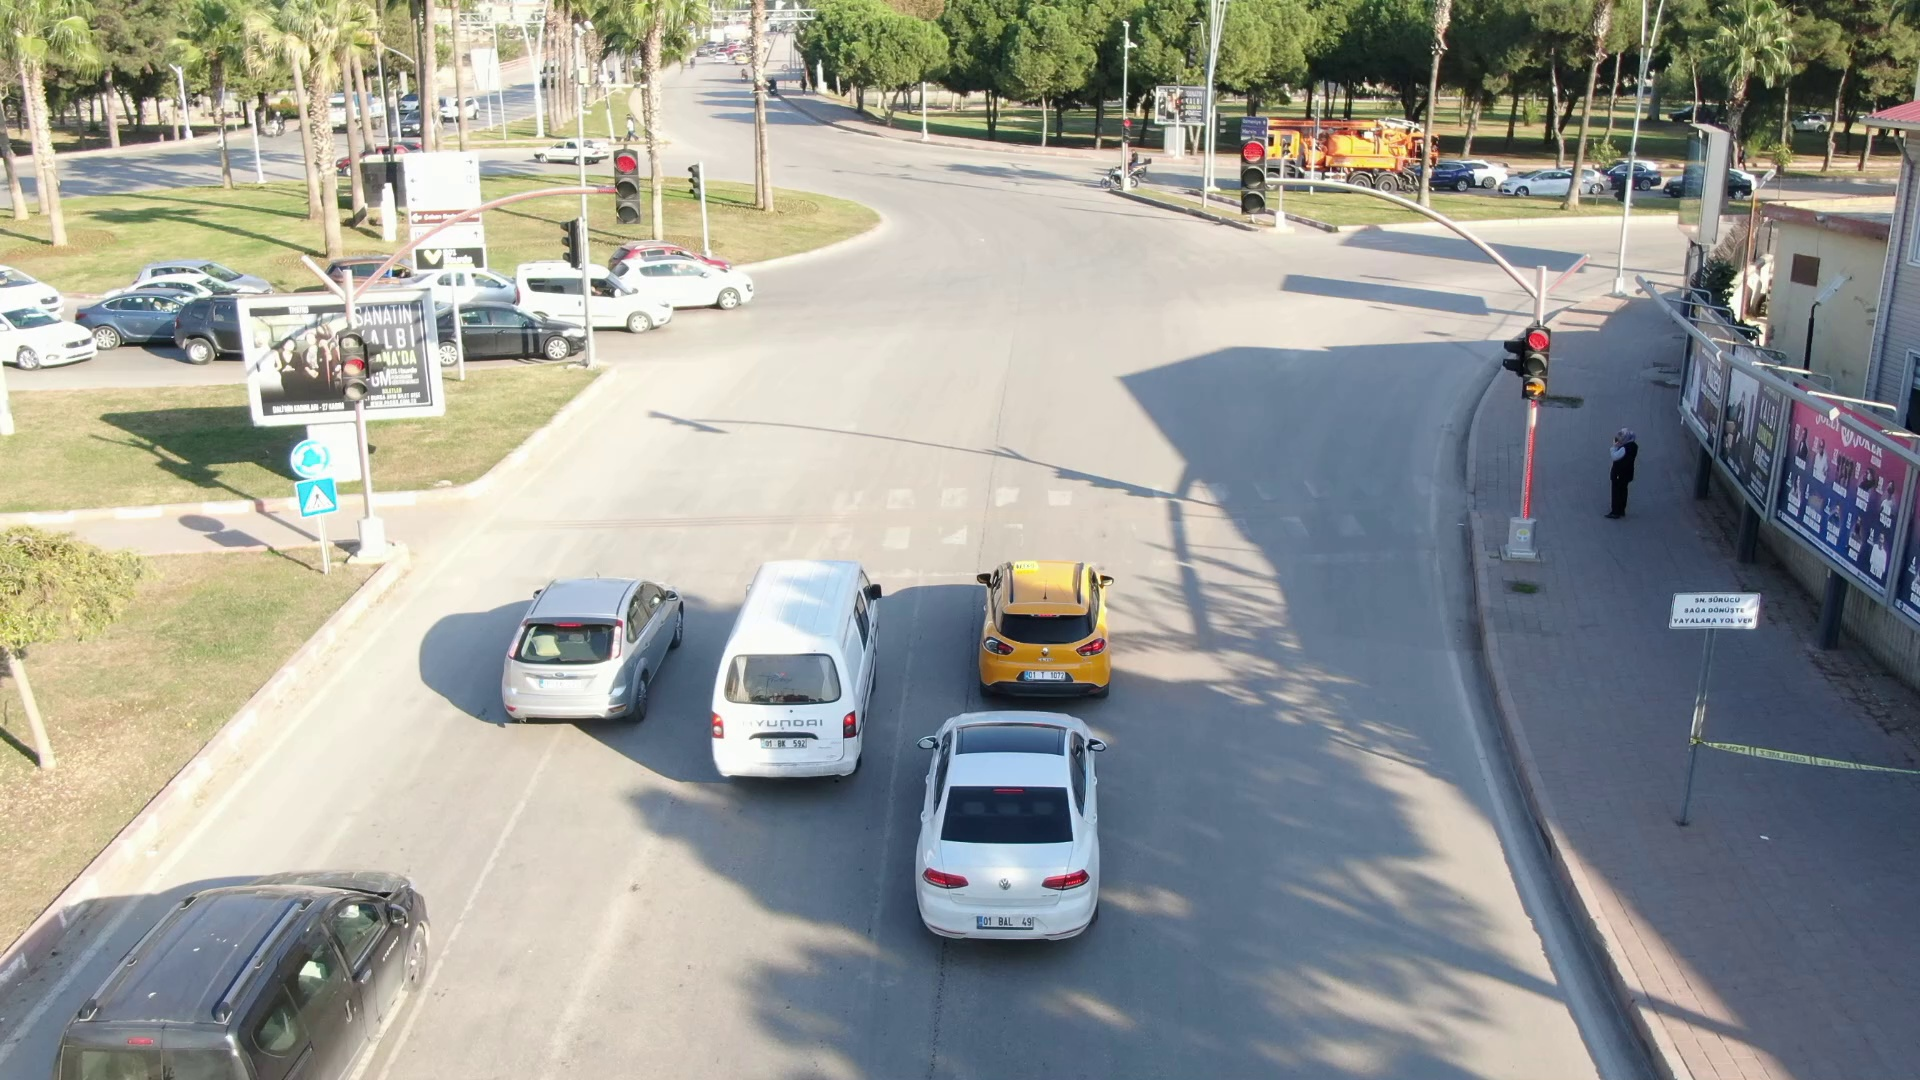car: (43, 857, 466, 1080), (912, 708, 1106, 943), (692, 565, 888, 790), (494, 568, 692, 735), (970, 551, 1117, 698)
person: (1604, 427, 1649, 531)
